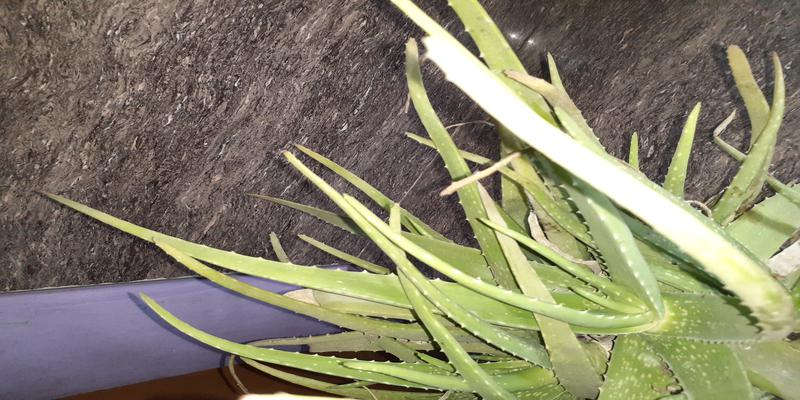Aloevera: (94, 96, 794, 385)
